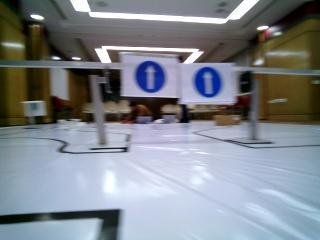straight: (121, 52, 181, 97), (182, 63, 233, 102)
